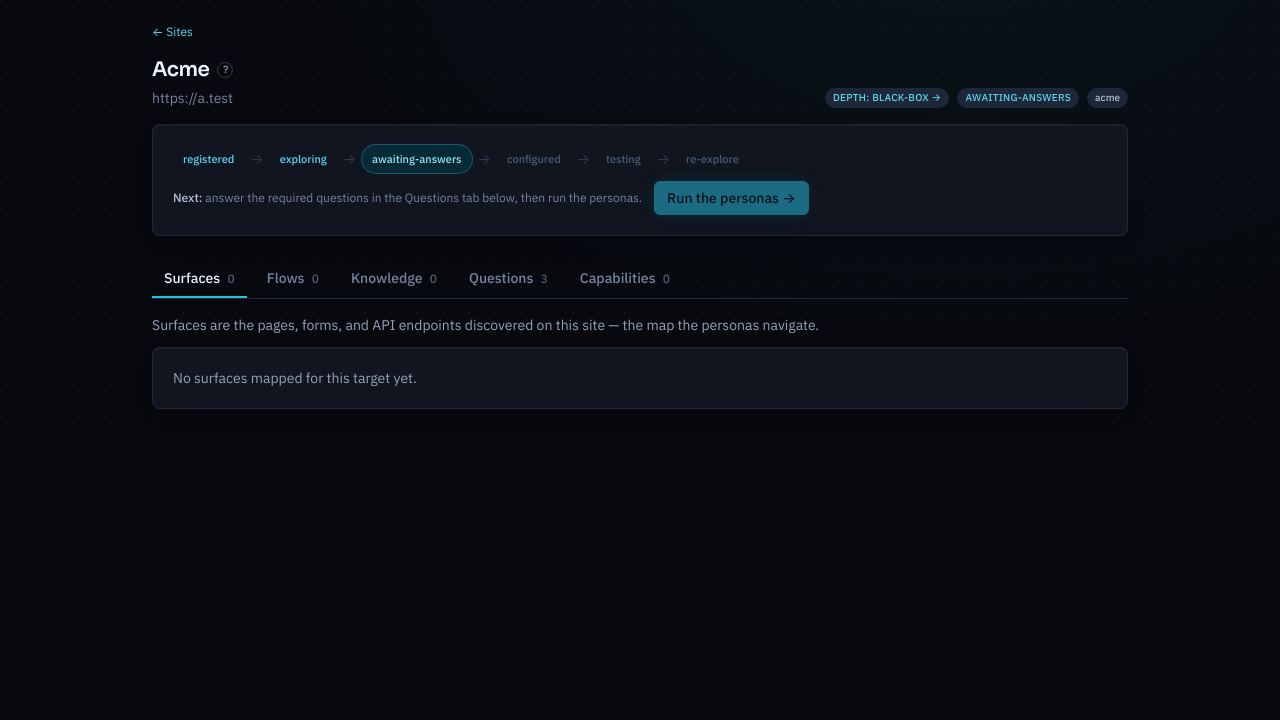
Test: <SiteTarget> Questions tab › shows the lifecycle badge + rollup and renders grouped questions
The image size is (1280, 720).
Check: the text with test id "lifecycle-badge" reads "awaiting-answers", box x1=965 y1=91 x2=1071 y2=104
Click the button "Questions 3" at (508, 279), box x1=457 y1=260 x2=560 y2=298
(page scrolled)
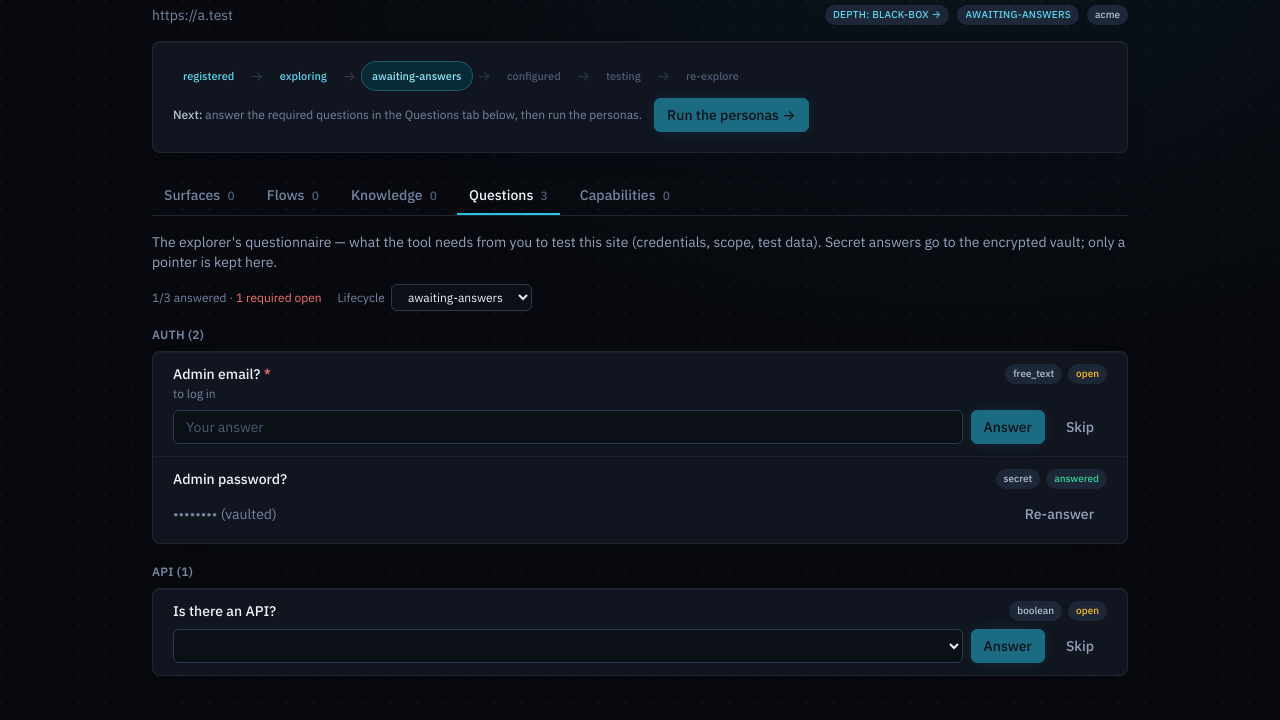
Check: the element with test id "questions-tab" is shown, box x1=152 y1=232 x2=1128 y2=676
Check: the element with test id "q-rollup" shows "1/3 answered", box x1=152 y1=290 x2=226 y2=304
Check: the element with test id "q-rollup" shows "1 required open", box x1=236 y1=290 x2=322 y2=304
